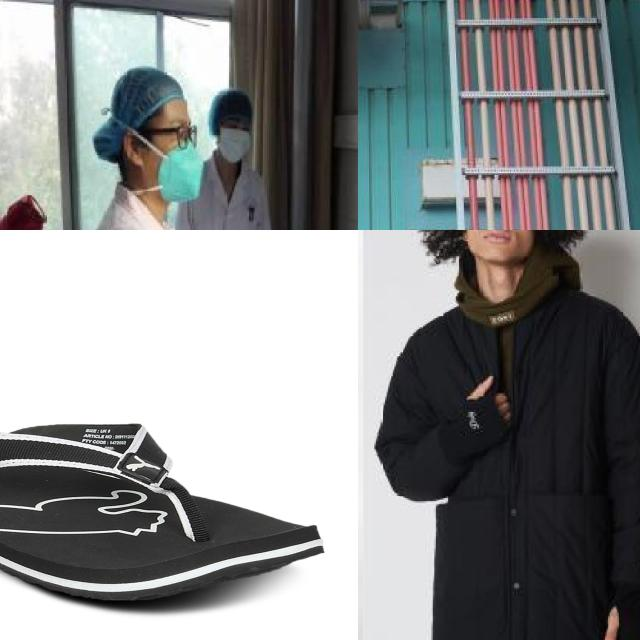Sandals: (0, 402, 326, 603)
face_mask: (144, 109, 204, 211), (217, 111, 258, 172)
face_nomask: (457, 230, 540, 256)
glasses: (163, 122, 201, 149)
hand_glove: (454, 374, 513, 454), (599, 599, 640, 640)
head_nohelmet: (99, 62, 208, 114)
person: (386, 230, 640, 640), (47, 60, 262, 230), (179, 91, 301, 230)
